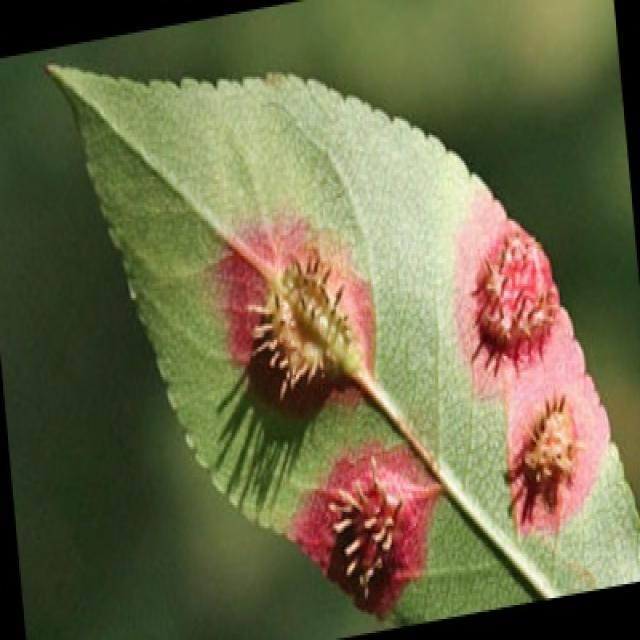Gymnosporangium_Rusts: (41, 58, 638, 624)
